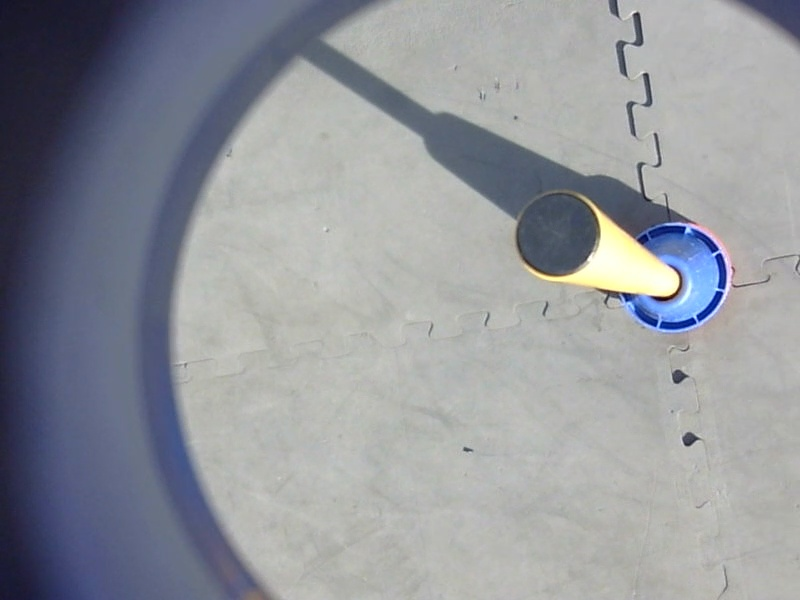tip: (509, 186, 609, 285)
